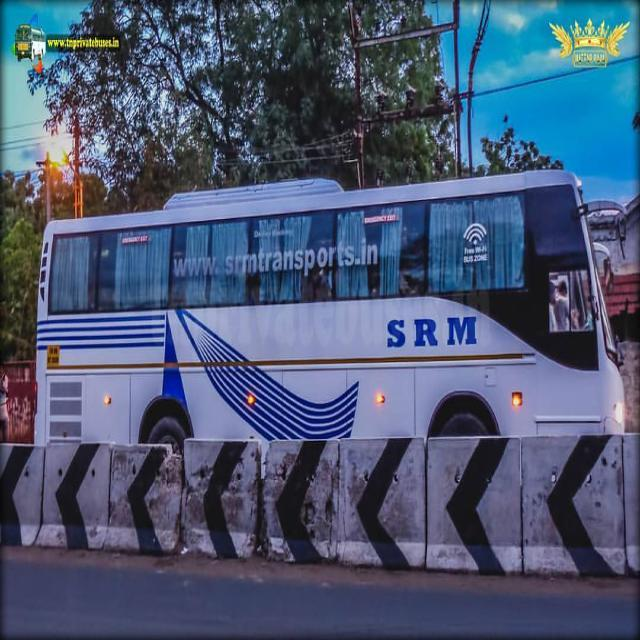Bus: (31, 176, 636, 444)
